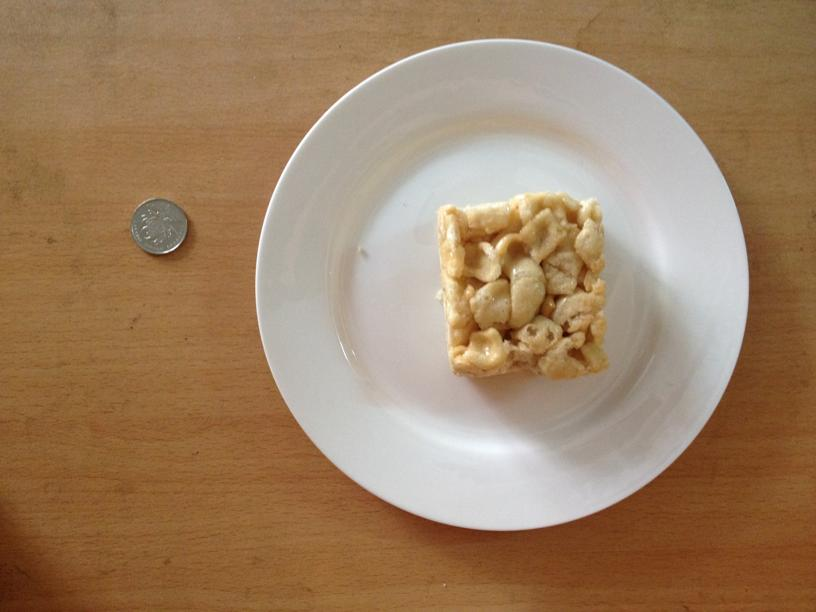coin: (131, 200, 189, 257)
sachima: (433, 191, 613, 375)
